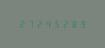eight: (71, 20, 79, 28)
five: (53, 20, 61, 28)
four: (44, 20, 52, 28)
nine: (80, 20, 88, 28)
seven: (26, 20, 34, 28)
two: (17, 20, 25, 28), (35, 20, 43, 28), (62, 20, 70, 28)
